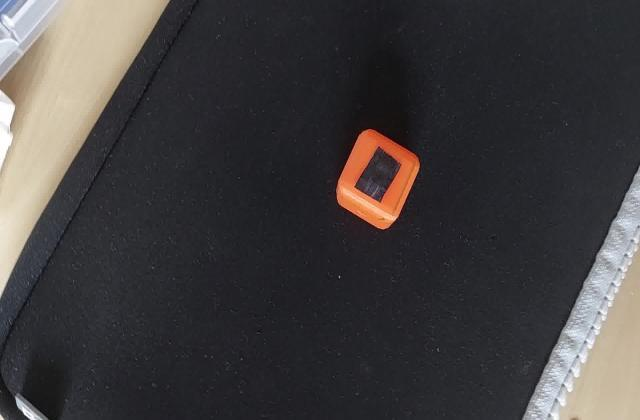black: (348, 146, 410, 202)
sticker: (334, 125, 422, 233)
